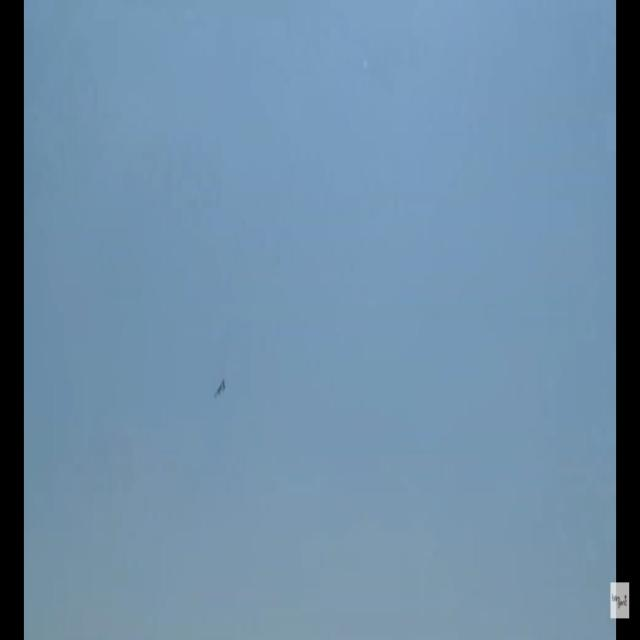iha: (217, 379, 222, 399)
